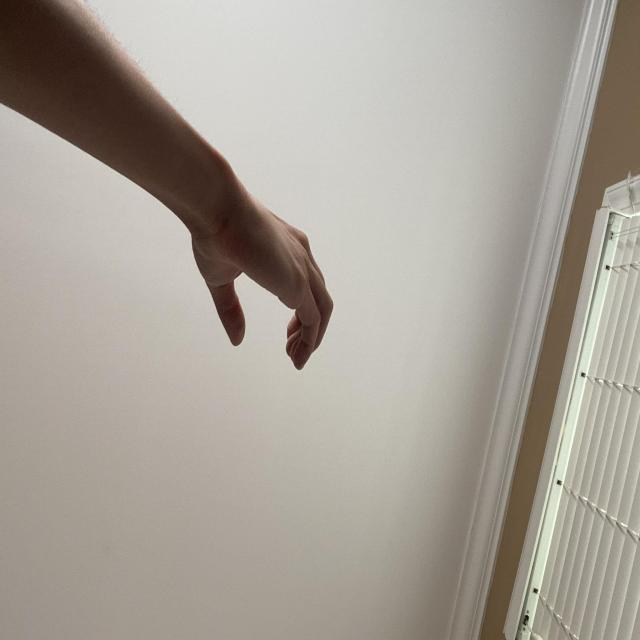C: (282, 402, 442, 611)
